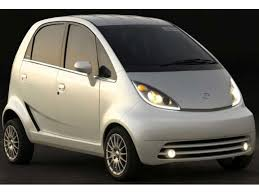Nano: (5, 14, 258, 180)
